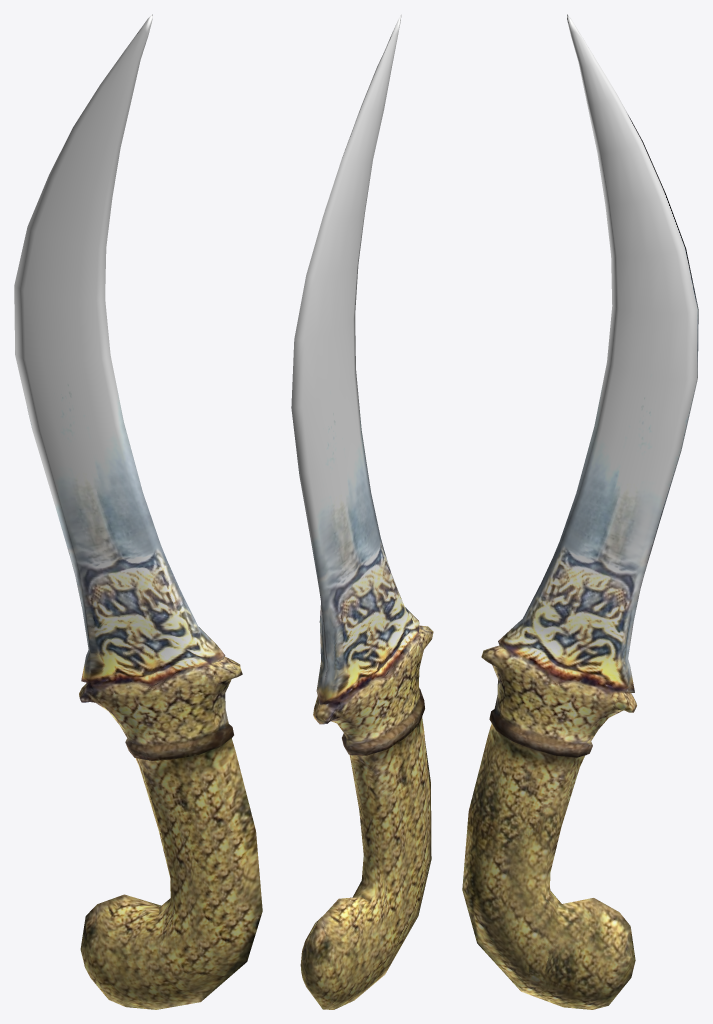
3 views of the same model, side by side, from view 1: azimuth 90°, elevation 25°; view 2: azimuth 150°, elevation 25°; view 3: azimuth 270°, elevation 25° (orthographic). The views are drawn at different scales.
Parts seen in each view (by area): view 1: dagger; view 2: dagger; view 3: dagger.
Part boxes in pixels (bbox=[...]): dagger: bbox=[14, 14, 262, 1009]; dagger: bbox=[291, 15, 433, 1009]; dagger: bbox=[462, 14, 698, 1009].
Bounding box in the file's own units: 77.29 × 995 × 220.
1 material, 1 textured.
